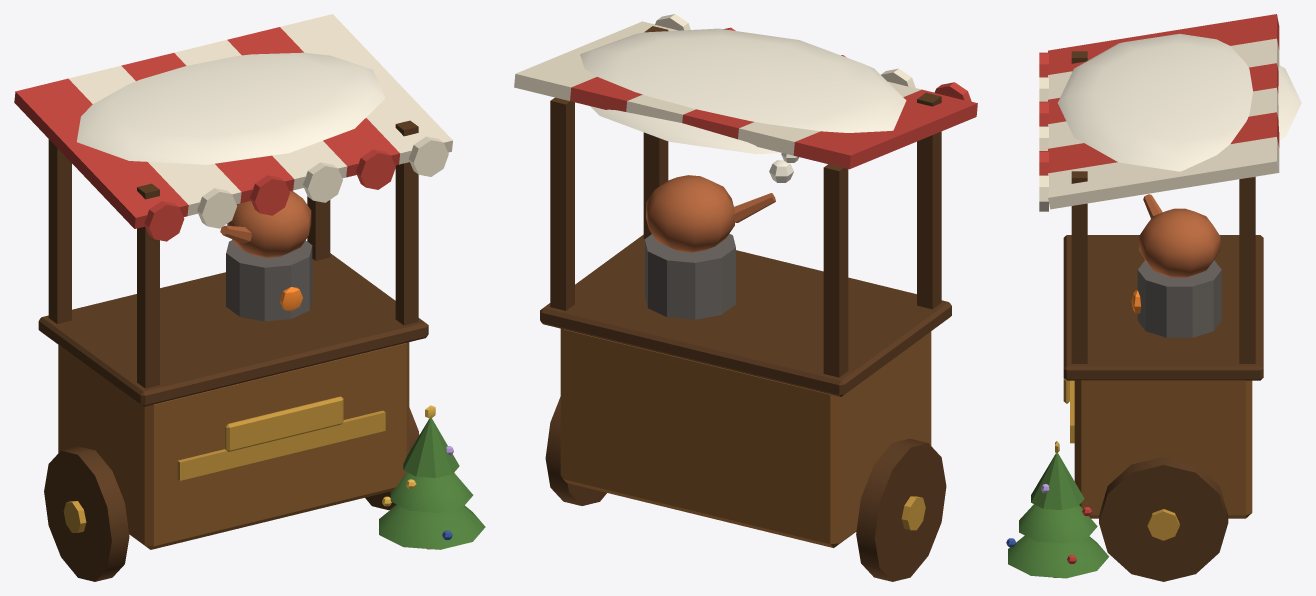
File: PR_Station_SezonKis_T2.fbx
3 views of the same model, side by side, from view 1: azimuth 30°, elevation 25°; view 2: azimuth 150°, elevation 25°; view 3: azimuth 270°, elevation 25° (orthographic). The views are drawn at different scales.
Visible parts, largest first — view 1: PR_Station_SezonKis_T2; view 2: PR_Station_SezonKis_T2; view 3: PR_Station_SezonKis_T2.
Boxes of the visible parts, x1=… form: PR_Station_SezonKis_T2: x1=14, y1=14, x2=485, y2=581; PR_Station_SezonKis_T2: x1=514, y1=14, x2=977, y2=581; PR_Station_SezonKis_T2: x1=1006, y1=14, x2=1301, y2=581.
Bounding box in the file's own units: 1.19 × 1.44 × 0.9156.
1 material, 1 textured.
